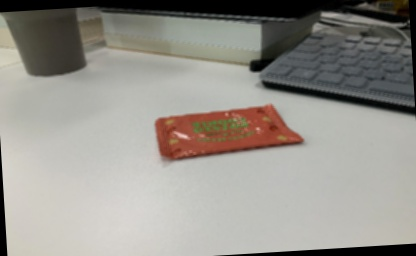pota: (151, 99, 306, 163)
